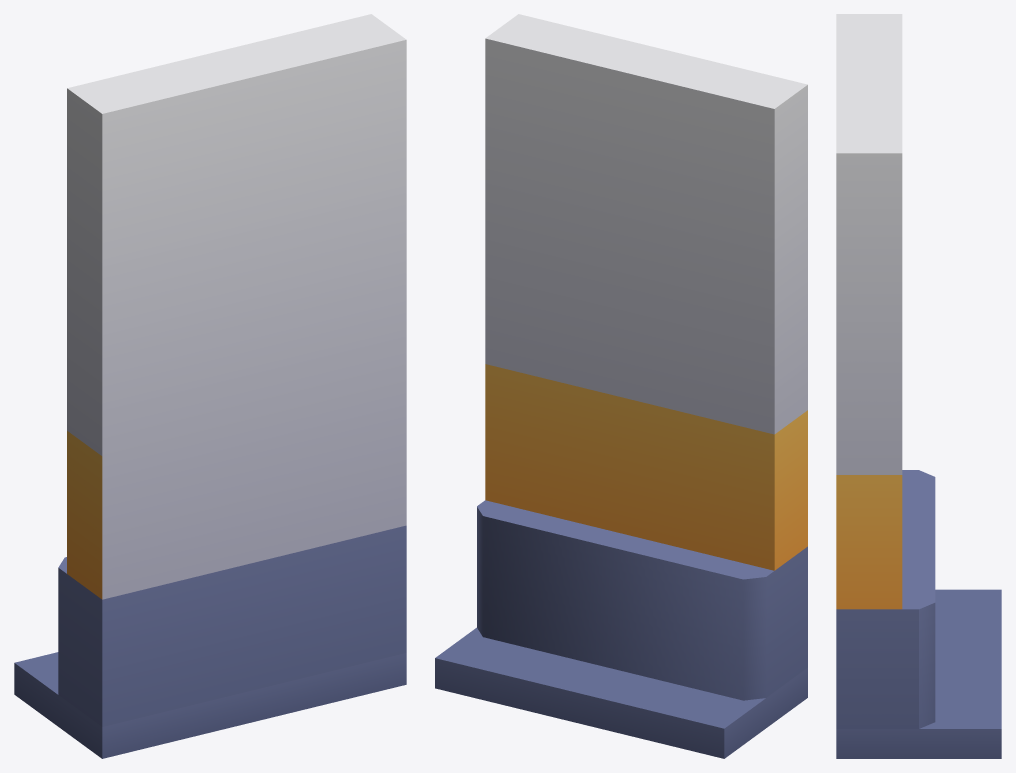
Rendered from kenney-space-template-wall-half.glb.
3 views of the same model, side by side, from view 1: azimuth 30°, elevation 25°; view 2: azimuth 150°, elevation 25°; view 3: azimuth 270°, elevation 25° (orthographic). The views are drawn at different scales.
Visible parts, largest first — view 1: template-wall-half; view 2: template-wall-half; view 3: template-wall-half.
Part boxes in pixels (x1,y1,x2,y2): template-wall-half: [14, 14, 406, 758]; template-wall-half: [435, 14, 807, 758]; template-wall-half: [836, 14, 1001, 758].
Size of the model in its own units: 1.5 by 3.04 by 0.7507.
Materials: 1 (1 with a texture image).
